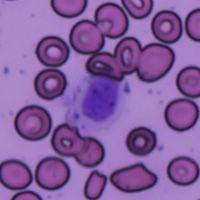L: (80, 74, 127, 125)
